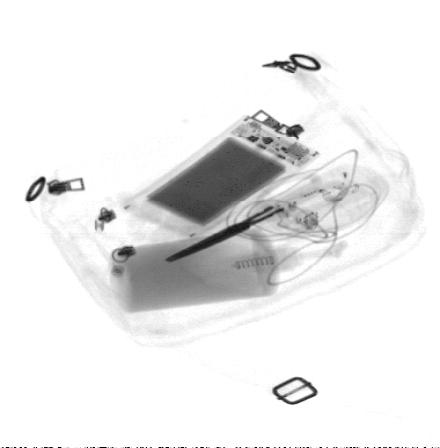Powerbank: (118, 111, 322, 240)
Scissors: (161, 170, 352, 267)
